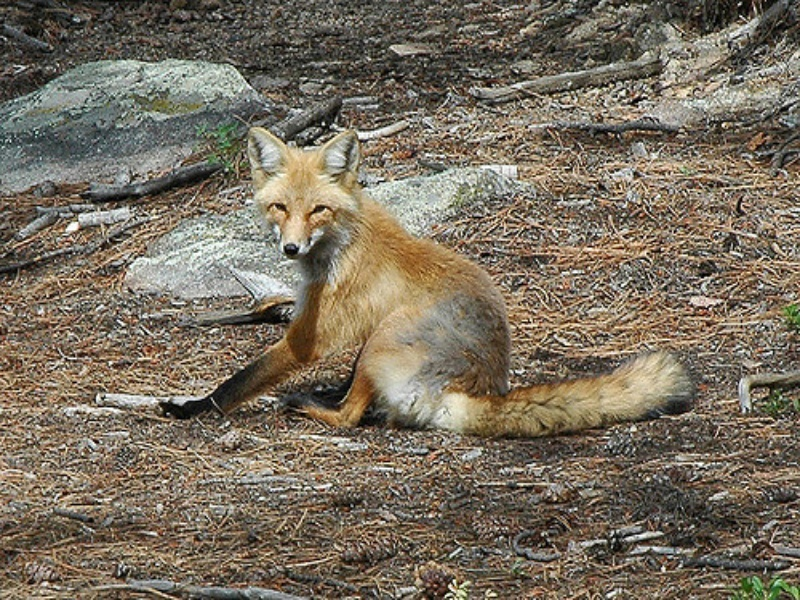fox: (164, 122, 698, 443)
